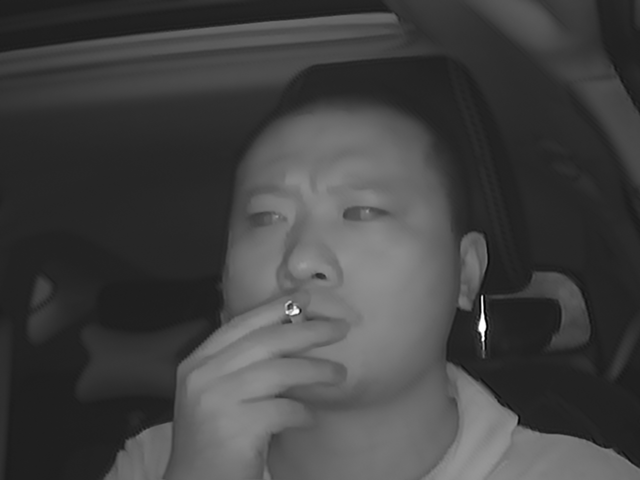hand: (180, 286, 346, 457)
